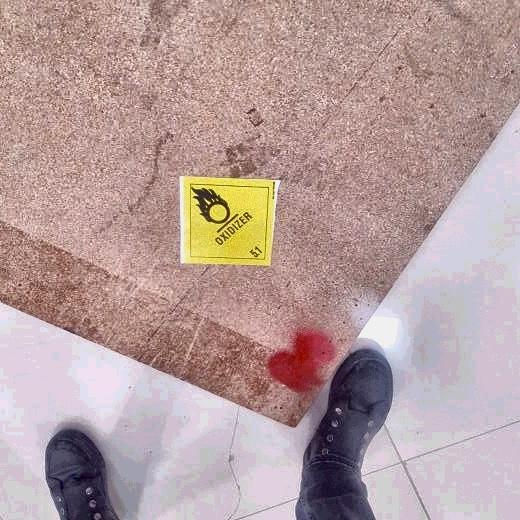oxidizer: (182, 178, 276, 266)
